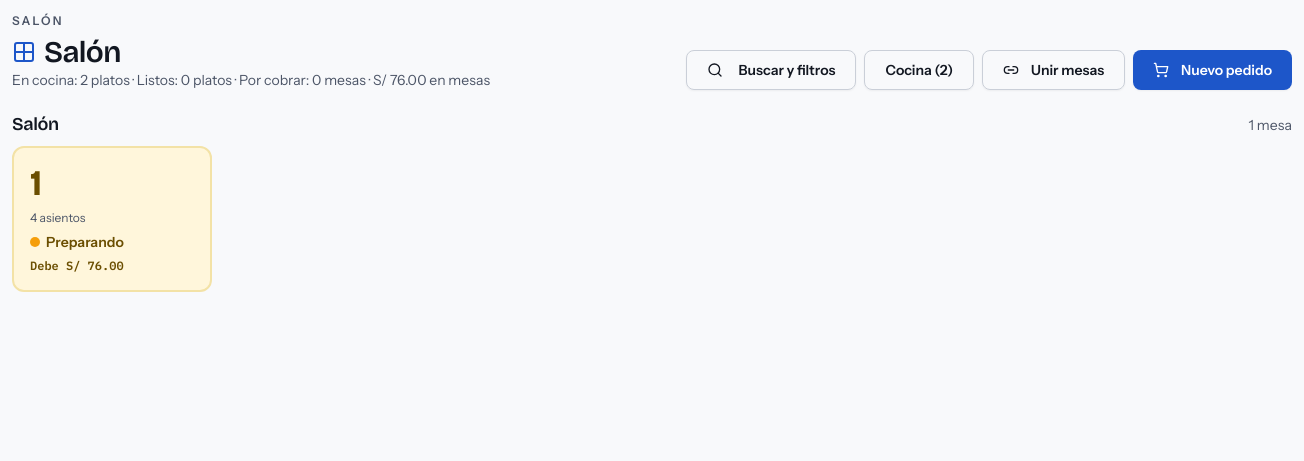
pedido por personas en el salón › muestra una tarjeta por persona con su alias y sin la franja vieja
What coordinates should you click on to do the following:
click the element with test id "mesa-card-1"
I would click on:
 (112, 219)
Its box is [12,146,212,292].
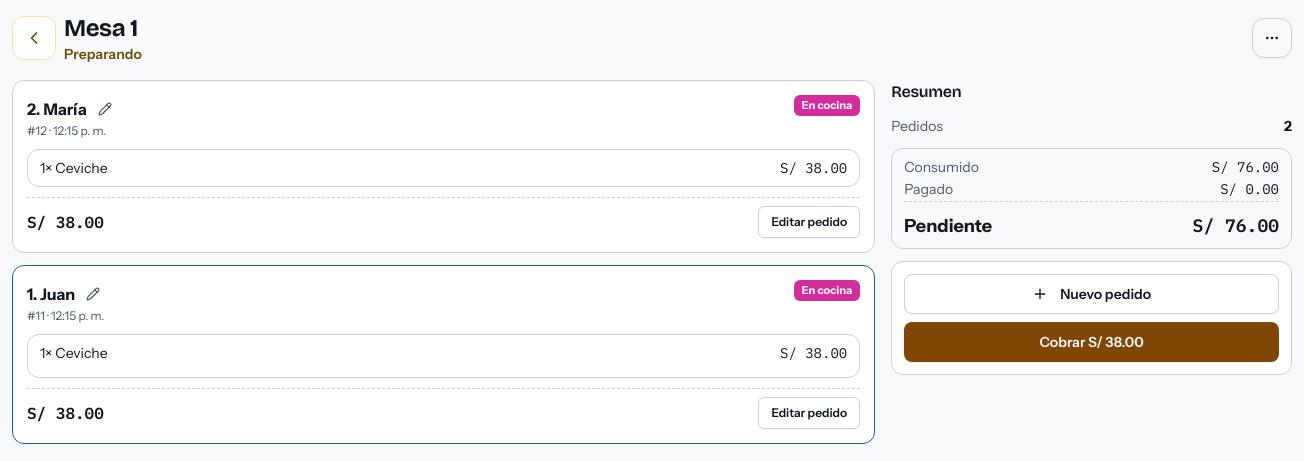
Now the element with test id "mesa-sheet-pedido-11" shows "Juan", box [27,284,75,304]
Now the element with test id "mesa-sheet-pedido-12" shows "María", box [27,99,87,119]
Now the button with test id "mesa-sheet-renombrar-11" is shown, box [79,280,107,308]
